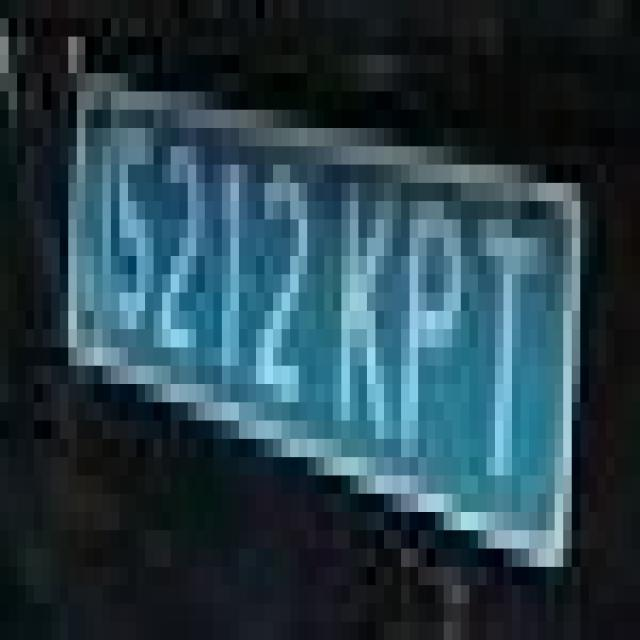licenseplate: (52, 33, 598, 609)
